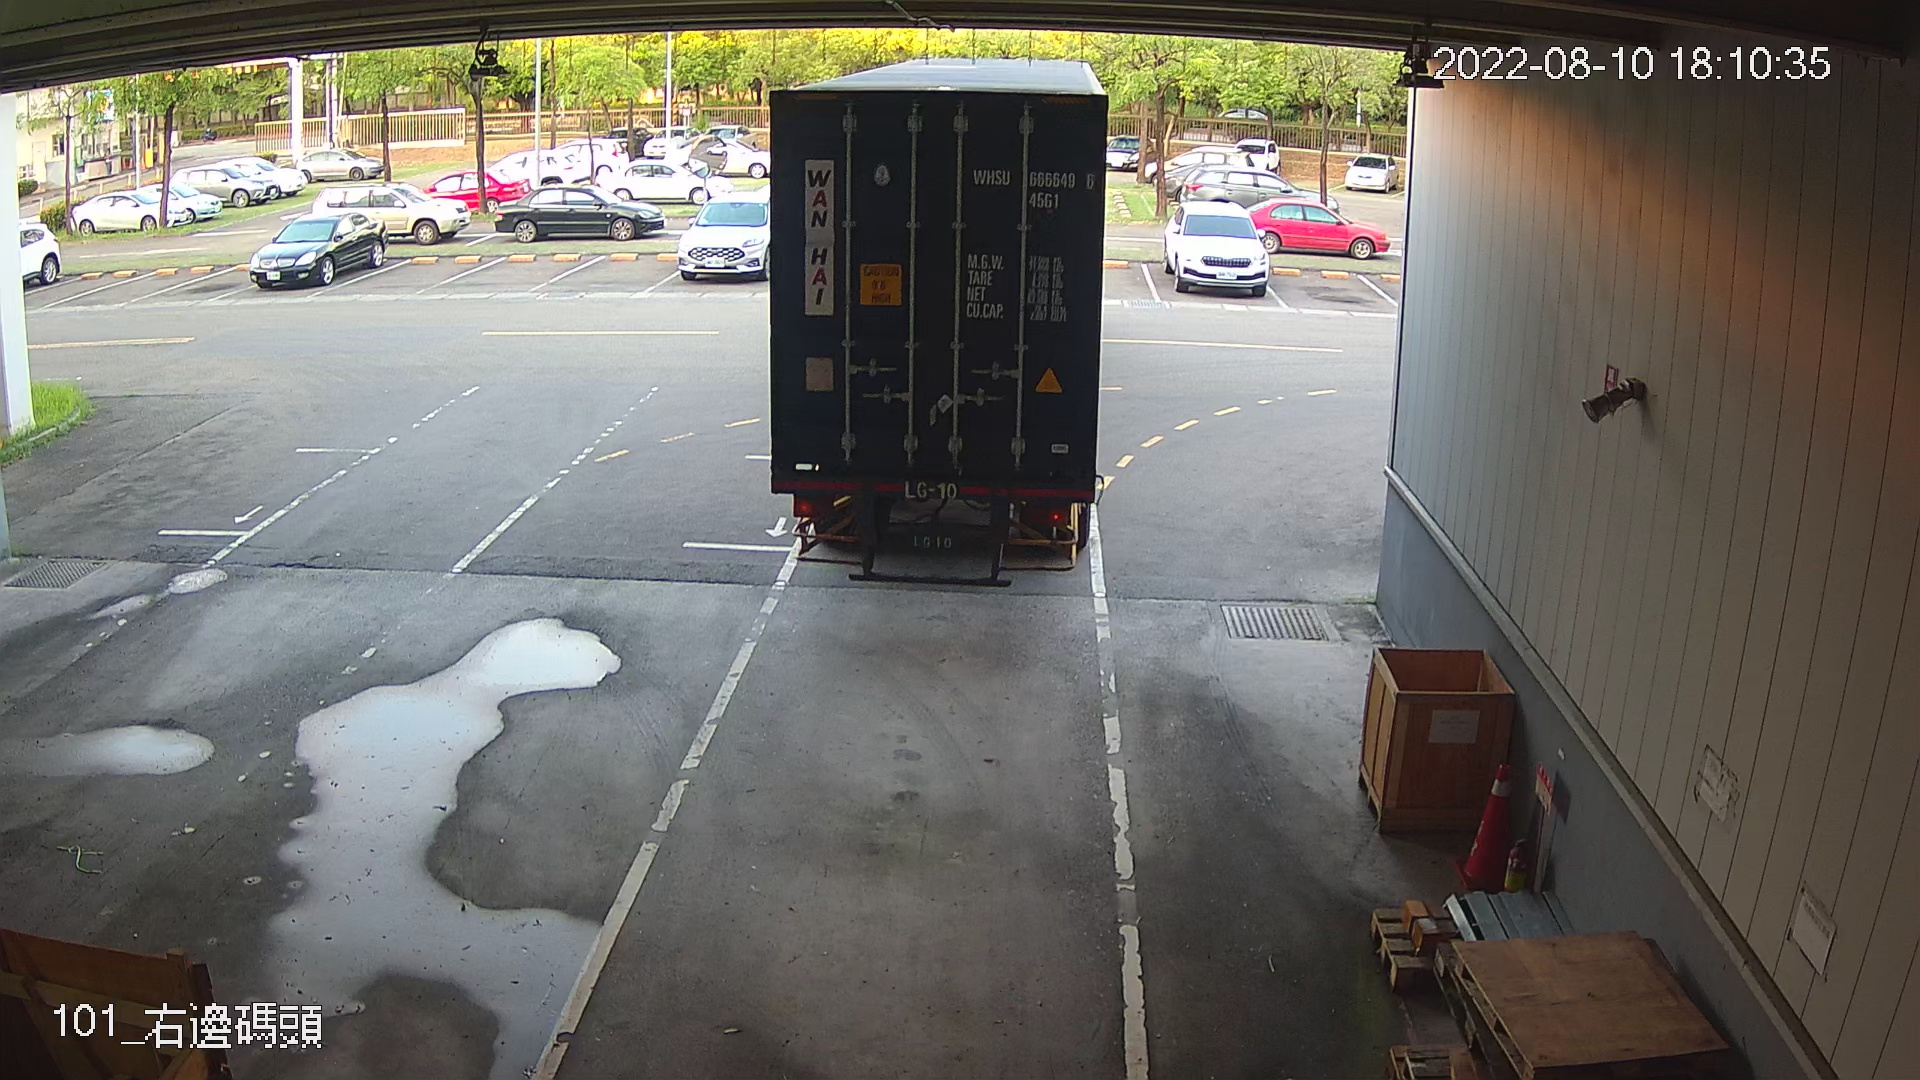container: (969, 158, 1100, 219)
